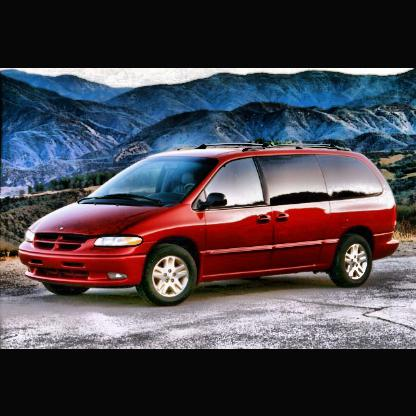Dodge Caravan Minivan 1997: (18, 142, 403, 307)
